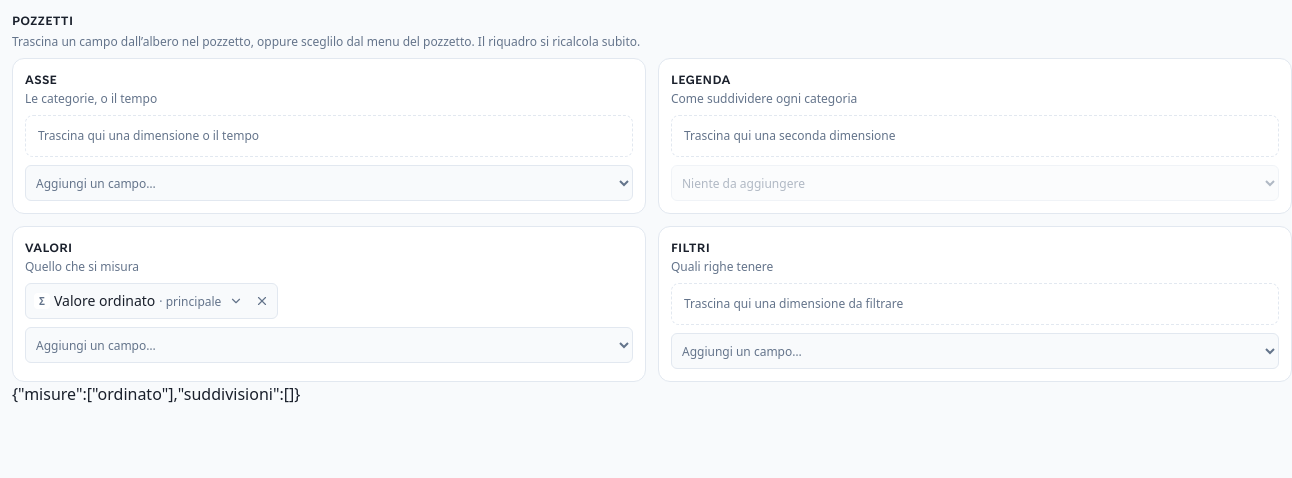
Pozzetti: il menu, l'alternativa al trascinamento › scegliere una voce dal menu fa lo stesso del trascinamento
Select "Cliente" in the dropdown named "Aggiungi a Asse" at (329, 183), box [25, 165, 633, 201]
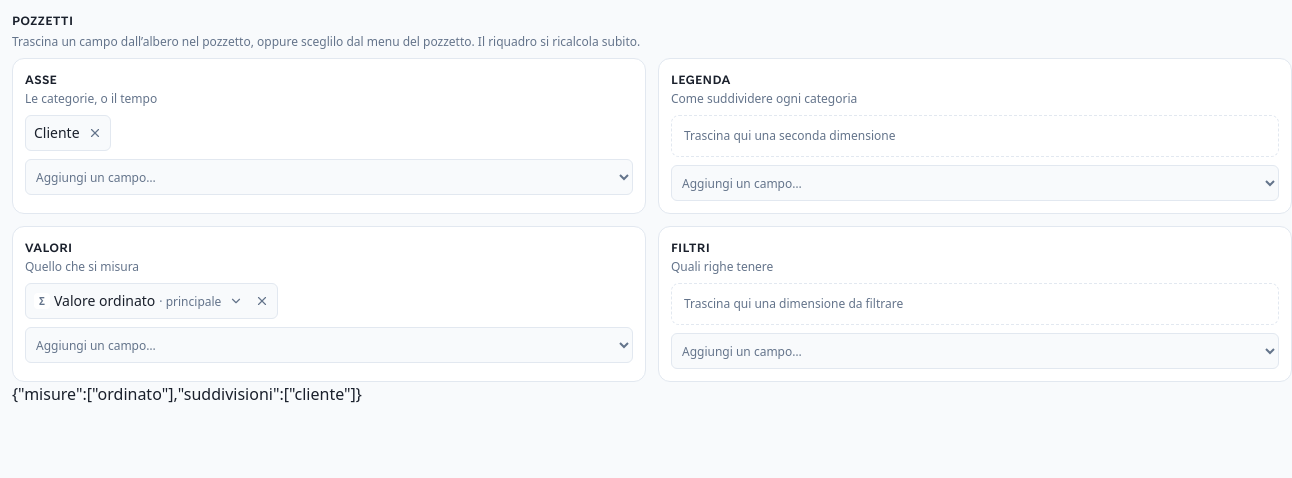
Select "Valore fatturato" in the dropdown named "Aggiungi a Valori" at (329, 345), box [25, 327, 633, 363]
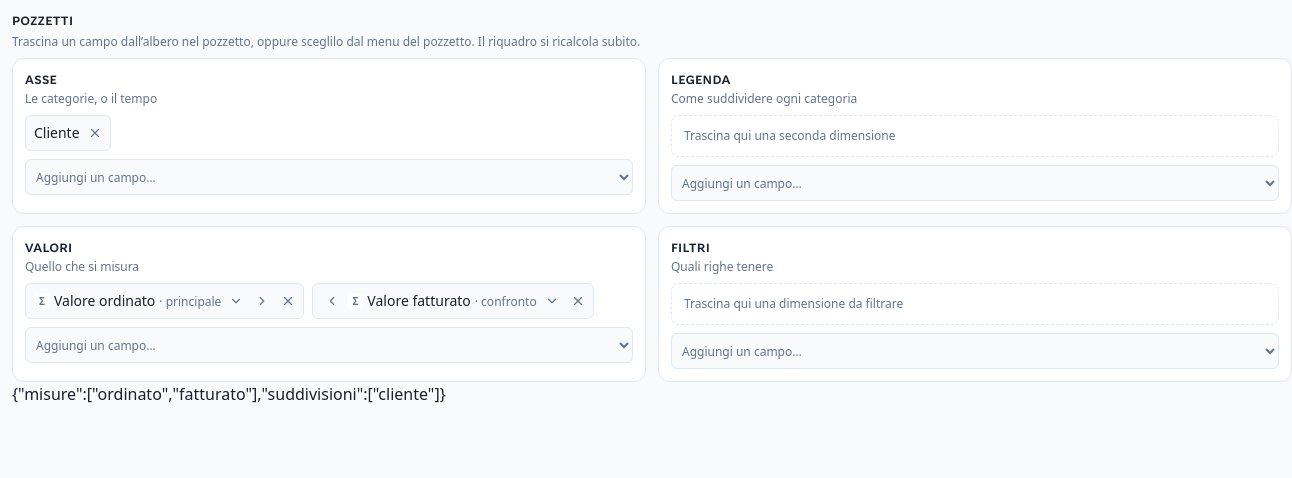
Select "Agente" in the dropdown named "Aggiungi a Filtri" at (975, 351), box [671, 333, 1279, 369]
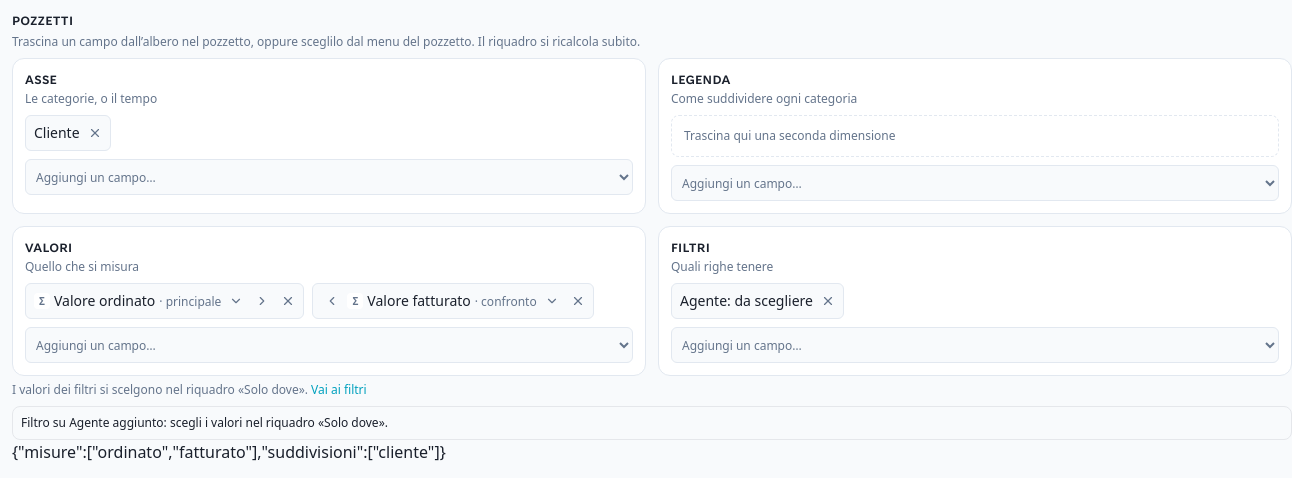
Expected: the text "Agente: da scegliere" is shown, [680, 291, 813, 311]
